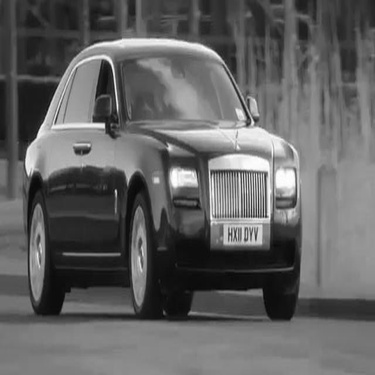car: (16, 31, 304, 325)
